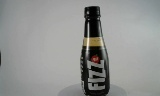appyfizz: (73, 5, 103, 95)
